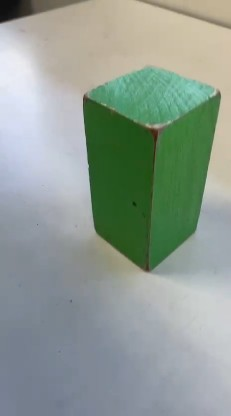green: (75, 58, 217, 272)
